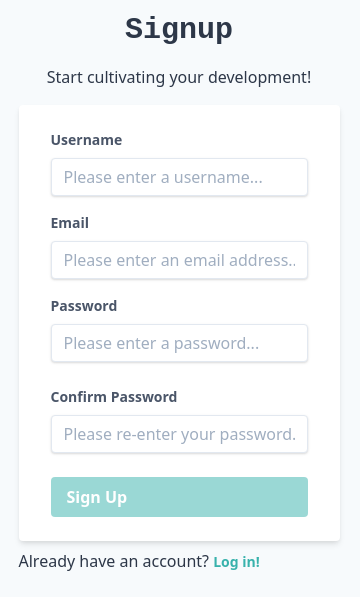
Test: <SignupPage /> › should show inline error and disabled signup button for invalid email
Type "invalid" into the field with test id "emailInput" at (179, 260), box left=50, top=241, right=308, bottom=279
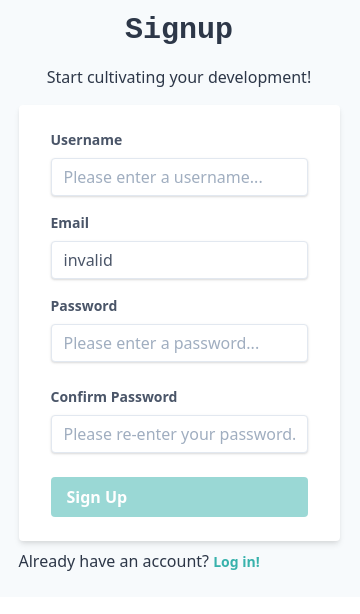
Leave the field with test id "emailInput", box left=50, top=241, right=308, bottom=279
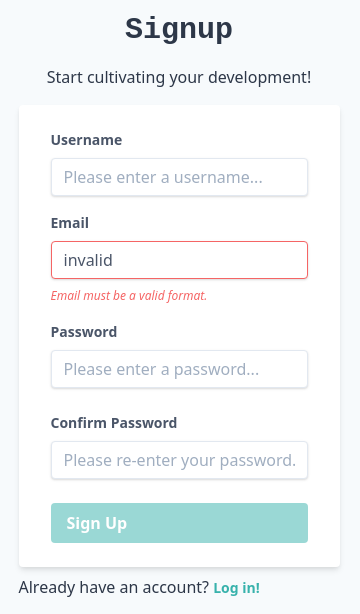
Expected: the button with test id "signupButton" is disabled, left=50, top=503, right=308, bottom=543
Expected: the text "Email must be a valid format." is shown, left=50, top=287, right=207, bottom=304
